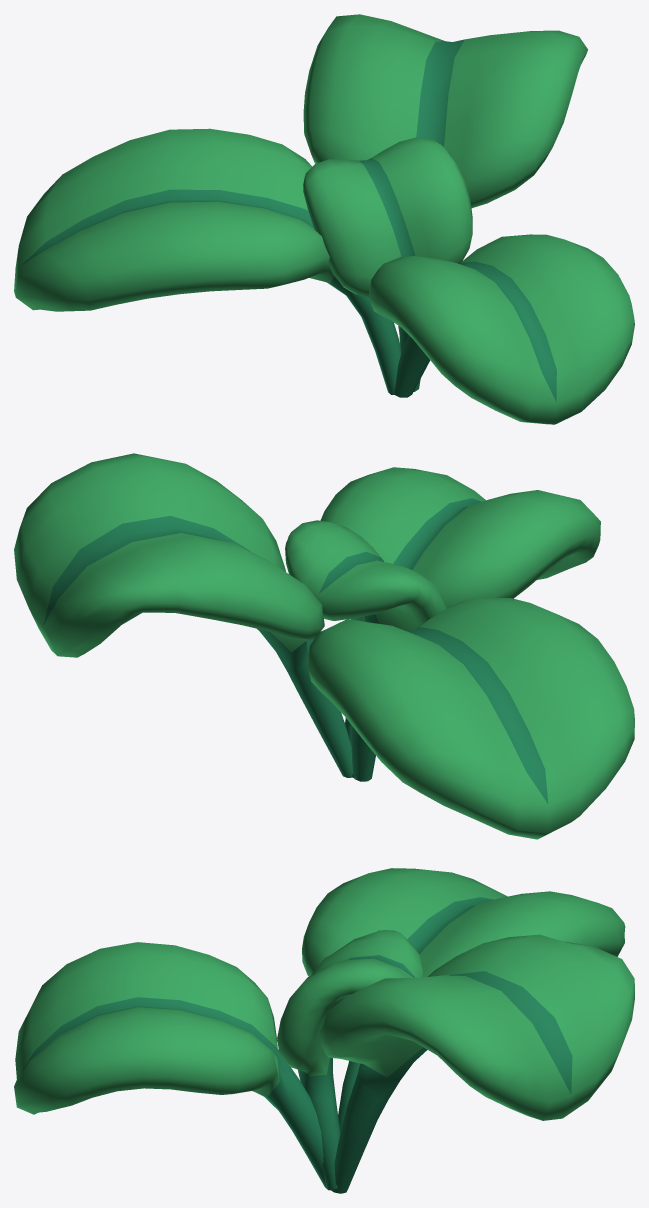
The model's file is Herb_A_01.fbx.
3 renders of one model, top to bottom at view 1: azimuth 30°, elevation 25°; view 2: azimuth 150°, elevation 25°; view 3: azimuth 270°, elevation 25°, orthographic. The views are drawn at different scales.
Parts seen in each view (by area): view 1: Herb_A_01_LOD0; view 2: Herb_A_01_LOD0; view 3: Herb_A_01_LOD0.
Boxes of the visible parts, <box> form: Herb_A_01_LOD0: <box>14,14,634,424</box>; Herb_A_01_LOD0: <box>14,453,634,839</box>; Herb_A_01_LOD0: <box>14,868,634,1193</box>.
Size of what is drawn, in the model's own units: 680 by 331 by 647.
